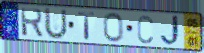C: (136, 14, 155, 45)
J: (160, 15, 183, 48)
O: (102, 12, 125, 44)
R: (19, 8, 44, 39)
T: (77, 11, 97, 41)
U: (43, 7, 69, 41)
